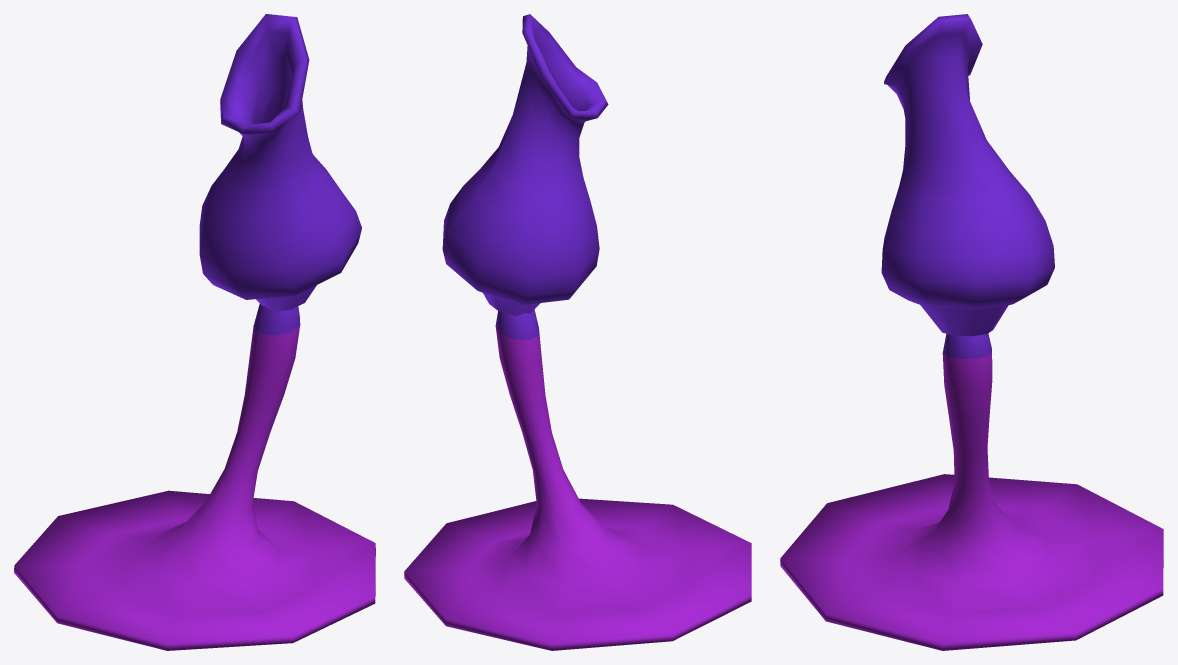
Rendered from FruitPlant2.fbx.
3 views of the same model, side by side, from view 1: azimuth 30°, elevation 25°; view 2: azimuth 150°, elevation 25°; view 3: azimuth 270°, elevation 25° (orthographic). The views are drawn at different scales.
Parts seen in each view (by area): view 1: FruitPlant 3; view 2: FruitPlant 3; view 3: FruitPlant 3.
Boxes of the visible parts, box(x1,y1,x2,y2) form: FruitPlant 3: box(14, 14, 375, 650); FruitPlant 3: box(404, 14, 751, 650); FruitPlant 3: box(780, 14, 1163, 650).
Bounding box in the file's own units: 50.11 × 83.91 × 49.31.
